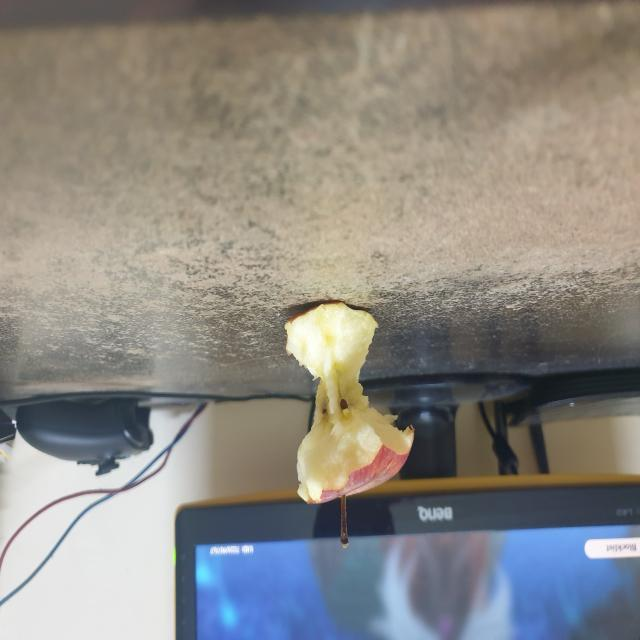apple: (274, 296, 424, 562)
